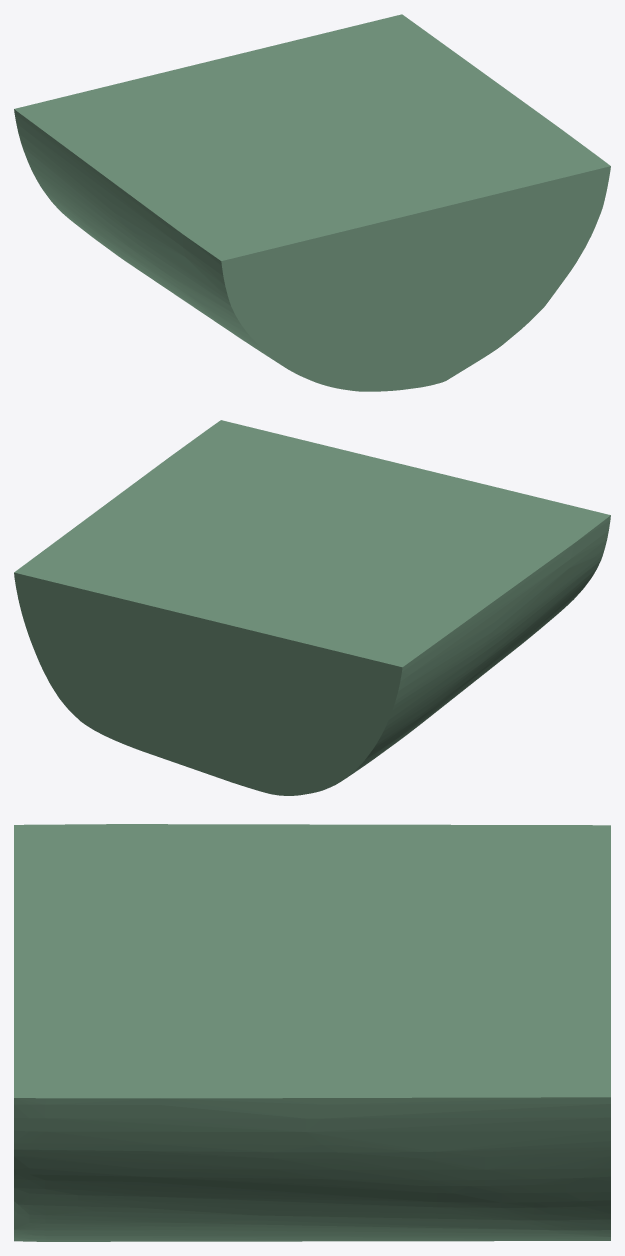
Rendered from piece_0.obj.
3 views of the same model, one above another, from view 1: azimuth 30°, elevation 25°; view 2: azimuth 150°, elevation 25°; view 3: azimuth 270°, elevation 25° (orthographic). The views are drawn at different scales.
Size of the model in its own units: 0.0677 by 0.029 by 0.0622.
